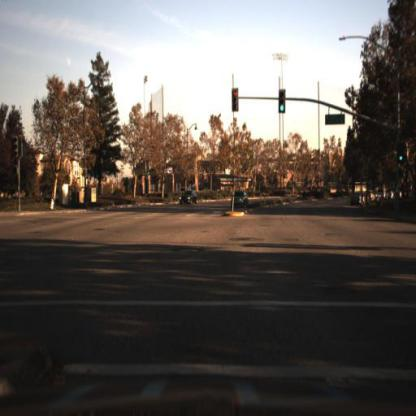car: (228, 189, 249, 214), (178, 188, 199, 210), (180, 188, 201, 206), (231, 192, 251, 210), (349, 190, 366, 211), (177, 182, 197, 194)
trafficLight-Green: (278, 87, 287, 115), (399, 142, 407, 170), (278, 100, 285, 118), (397, 153, 405, 166)
trafficLight-RedLeft: (231, 89, 241, 115), (232, 83, 240, 105)
